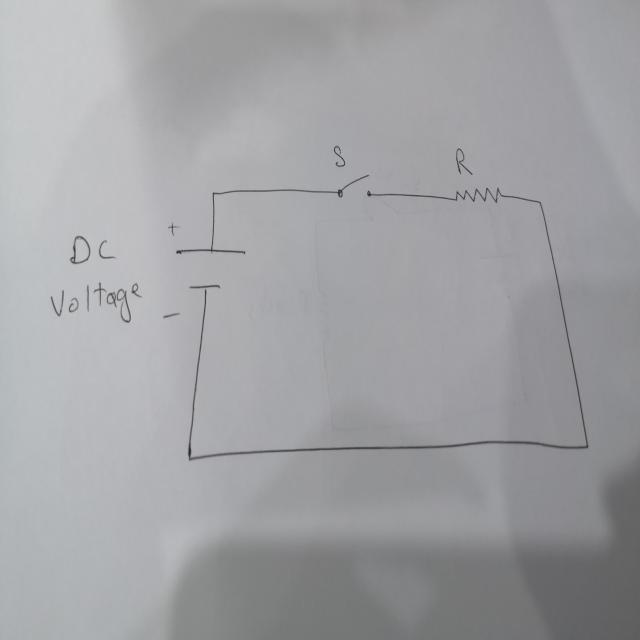junction: (533, 193, 546, 214), (185, 447, 194, 464), (582, 438, 590, 453), (210, 187, 217, 200)
resistor: (452, 184, 505, 206)
source: (174, 243, 249, 296)
switch: (338, 162, 372, 202)
text: (47, 275, 144, 326), (68, 231, 120, 270), (455, 145, 474, 178), (332, 142, 346, 169)
